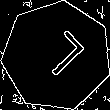L_SW: (27, 27, 86, 85)
